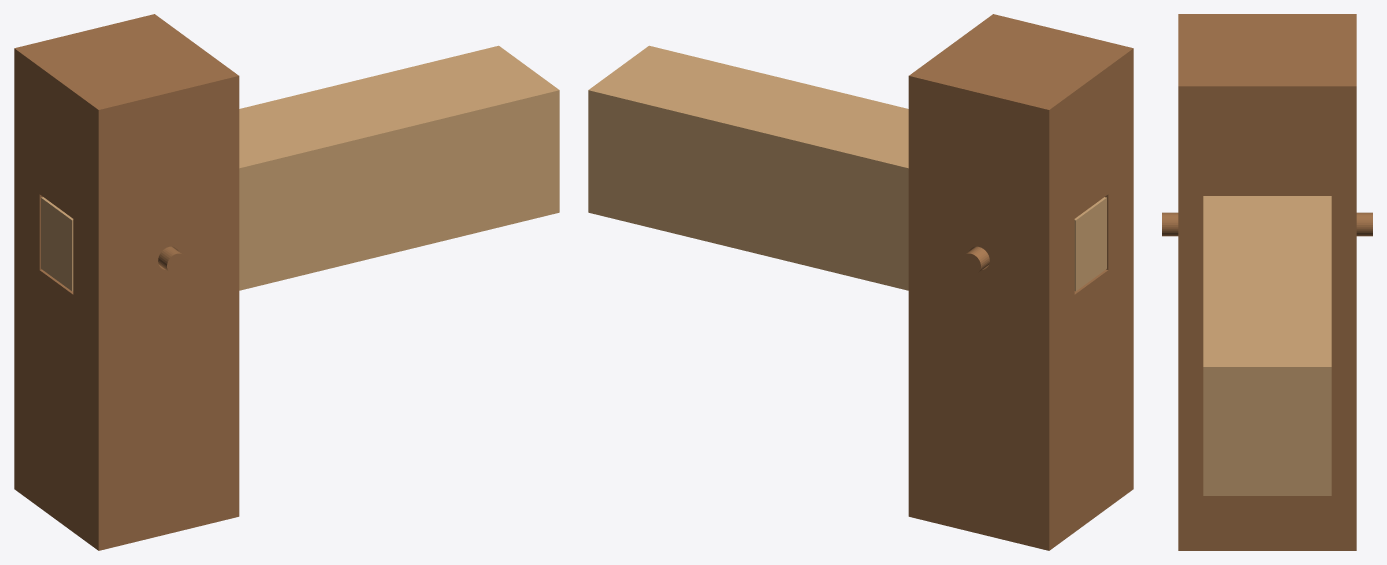
File: pegged.glb
3 views of the same model, side by side, from view 1: azimuth 30°, elevation 25°; view 2: azimuth 150°, elevation 25°; view 3: azimuth 270°, elevation 25° (orthographic). The views are drawn at different scales.
Parts seen in each view (by area): view 1: post, beam, tenon; view 2: post, beam, tenon; view 3: post, beam, wood peg.
Part boxes in pixels (x1=…): post: x1=14, y1=14, x2=239, y2=550; beam: x1=239, y1=45, x2=559, y2=290; tenon: x1=41, y1=197, x2=73, y2=291; post: x1=908, y1=14, x2=1133, y2=550; beam: x1=588, y1=45, x2=908, y2=290; tenon: x1=1074, y1=197, x2=1106, y2=291; post: x1=1178, y1=14, x2=1356, y2=550; beam: x1=1203, y1=196, x2=1331, y2=495; wood peg: x1=1162, y1=212, x2=1372, y2=236.
Bounding box in the file's own units: 4.04 × 3.6 × 1.48.
